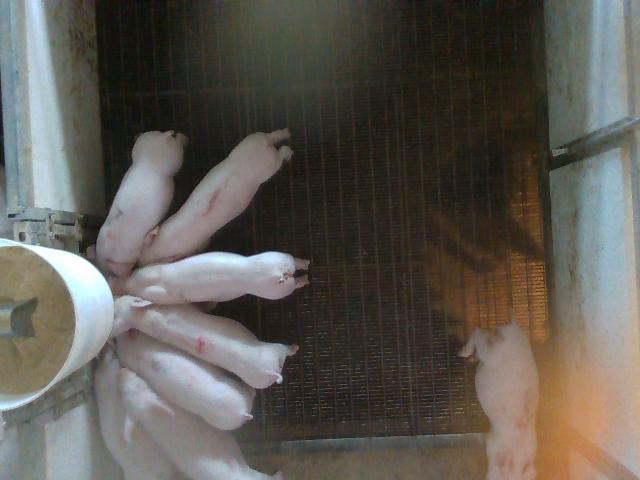pig-1: (139, 131, 294, 266)
pig-3: (460, 316, 539, 478)
pig-4: (114, 301, 297, 389)
